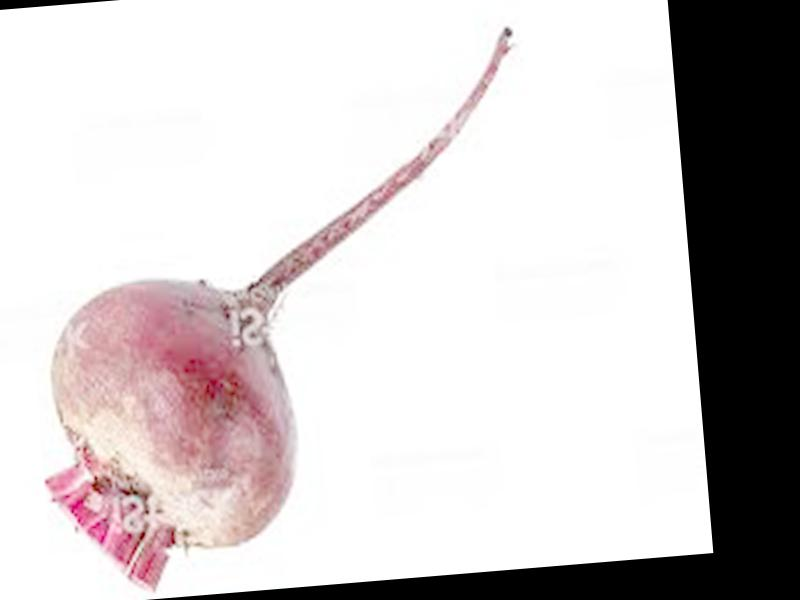Beet: (14, 29, 556, 600)
